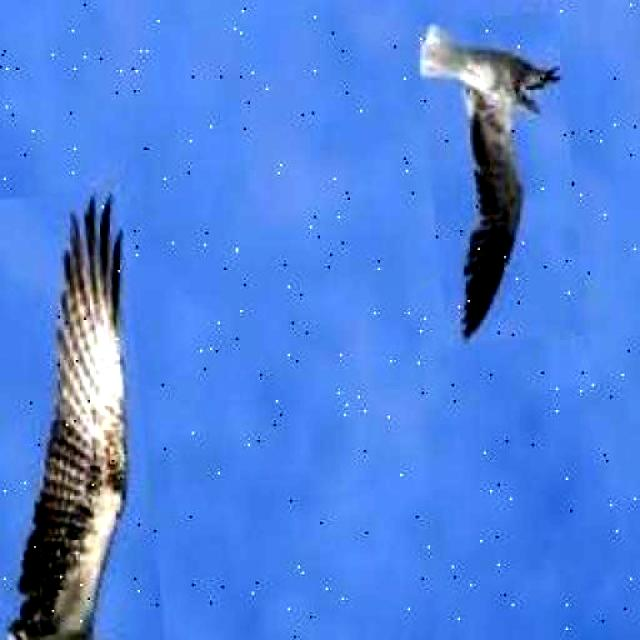airplane: (0, 188, 186, 640), (415, 9, 589, 345)
